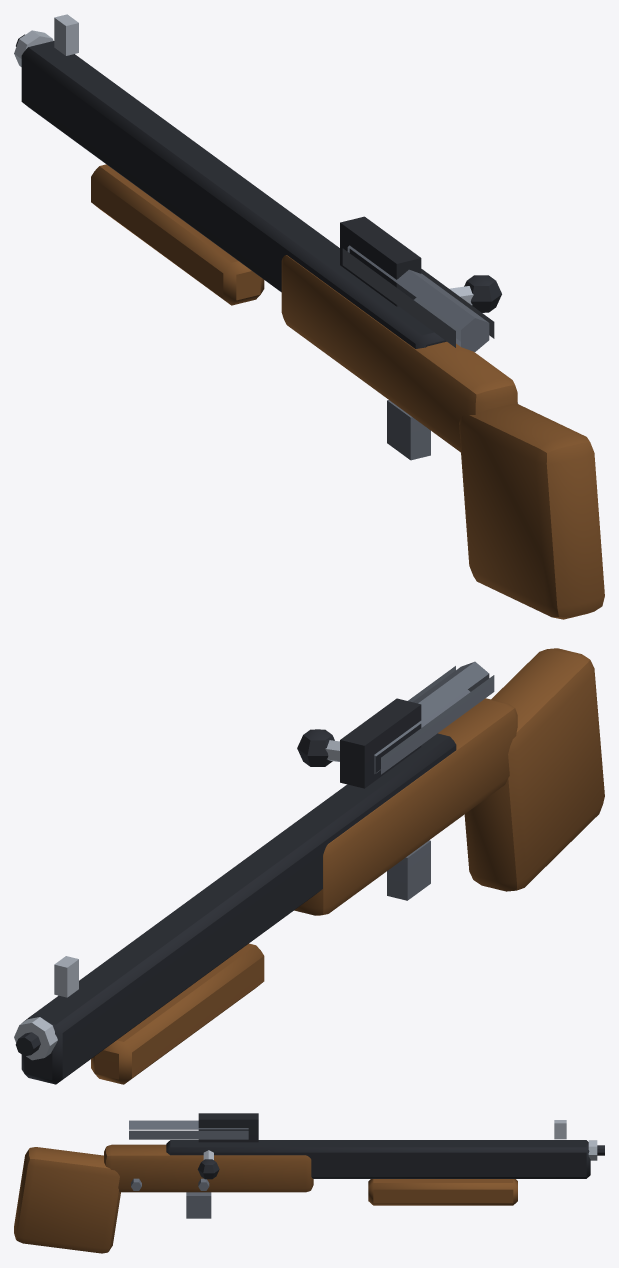
Rendered from item_rifle.glb.
3 views of the same model, one above another, from view 1: azimuth 30°, elevation 25°; view 2: azimuth 150°, elevation 25°; view 3: azimuth 270°, elevation 25° (orthographic). The views are drawn at different scales.
Visible parts, largest first — view 1: item_rifle, item_rifle_detail; view 2: item_rifle, item_rifle_detail; view 3: item_rifle, item_rifle_detail.
Boxes of the visible parts, x1,y1,x2,y2 form: item_rifle: [21, 41, 604, 619]; item_rifle_detail: [14, 14, 517, 403]; item_rifle: [21, 648, 604, 1084]; item_rifle_detail: [14, 729, 339, 1060]; item_rifle: [14, 1113, 590, 1253]; item_rifle_detail: [131, 1120, 604, 1190].
Size of the model in its own units: 0.1541 by 0.2952 by 1.18.
